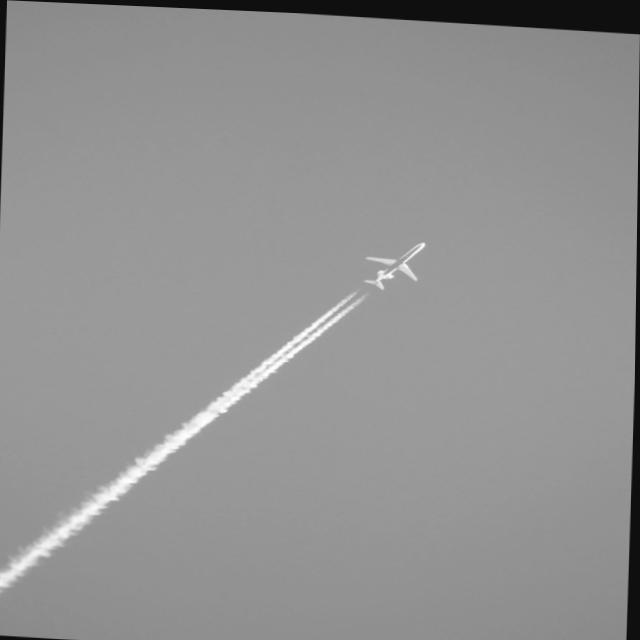aeroplane: (357, 234, 439, 292)
